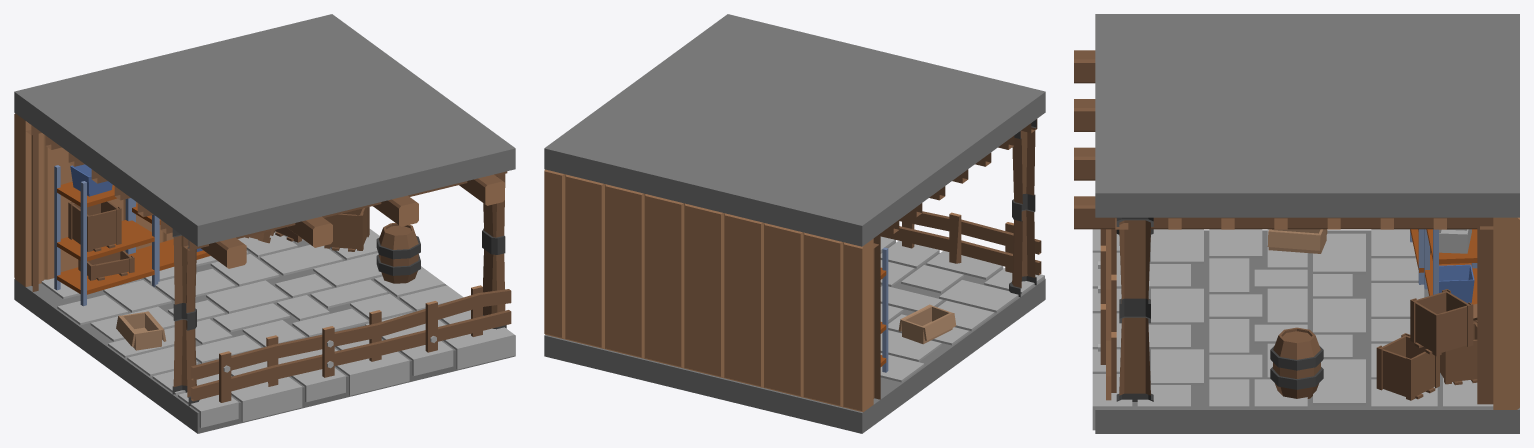
File: ResourceStorage_Lvl_02_Straight_Left_Right.fbx
The picture shows the model from 3 angles, left to right: view 1: azimuth 30°, elevation 25°; view 2: azimuth 150°, elevation 25°; view 3: azimuth 270°, elevation 25°; orthographic projection. The views are drawn at different scales.
Visible parts, largest first — view 1: ResourceStorage_Lvl_02_Straight_Left_Right; view 2: ResourceStorage_Lvl_02_Straight_Left_Right; view 3: ResourceStorage_Lvl_02_Straight_Left_Right.
Part boxes in pixels (x1=…): ResourceStorage_Lvl_02_Straight_Left_Right: x1=14, y1=14, x2=515, y2=433; ResourceStorage_Lvl_02_Straight_Left_Right: x1=544, y1=14, x2=1045, y2=433; ResourceStorage_Lvl_02_Straight_Left_Right: x1=1074, y1=14, x2=1519, y2=433.
Bounding box in the file's own units: 8 × 5 × 8.4.
